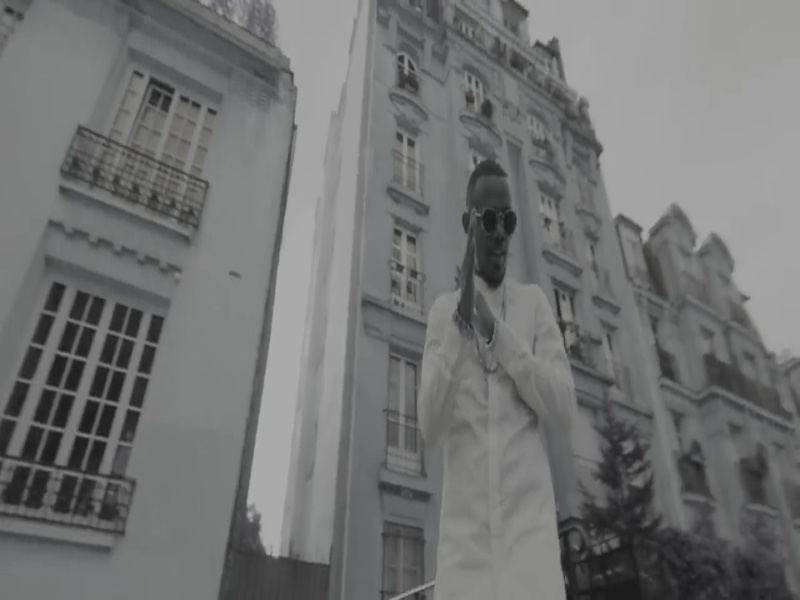TsisyArotava: (456, 159, 532, 301)
